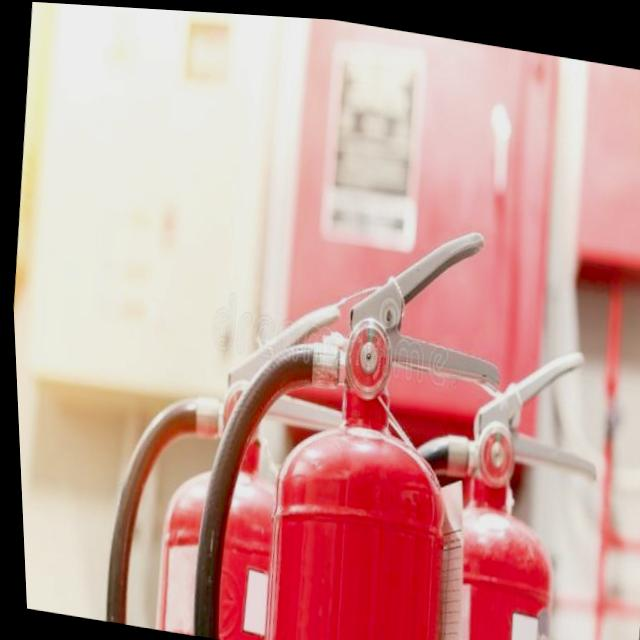FireExtinguisher: (169, 179, 526, 640), (81, 262, 366, 640), (362, 309, 615, 640)
